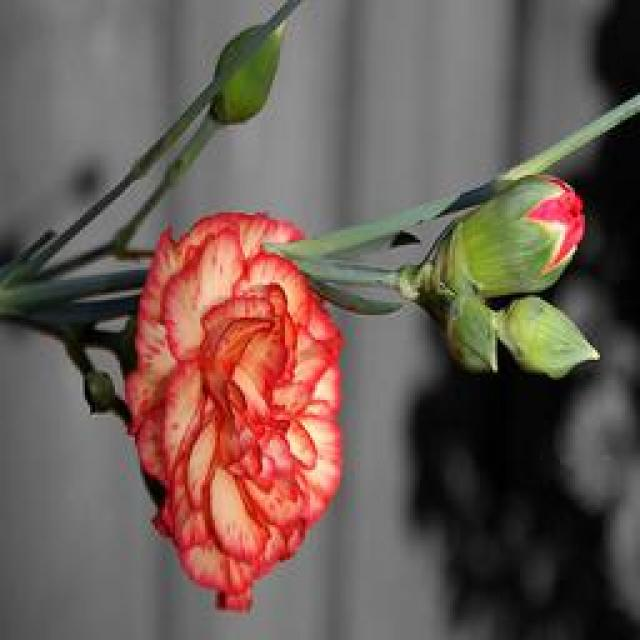carnation: (106, 181, 354, 604)
